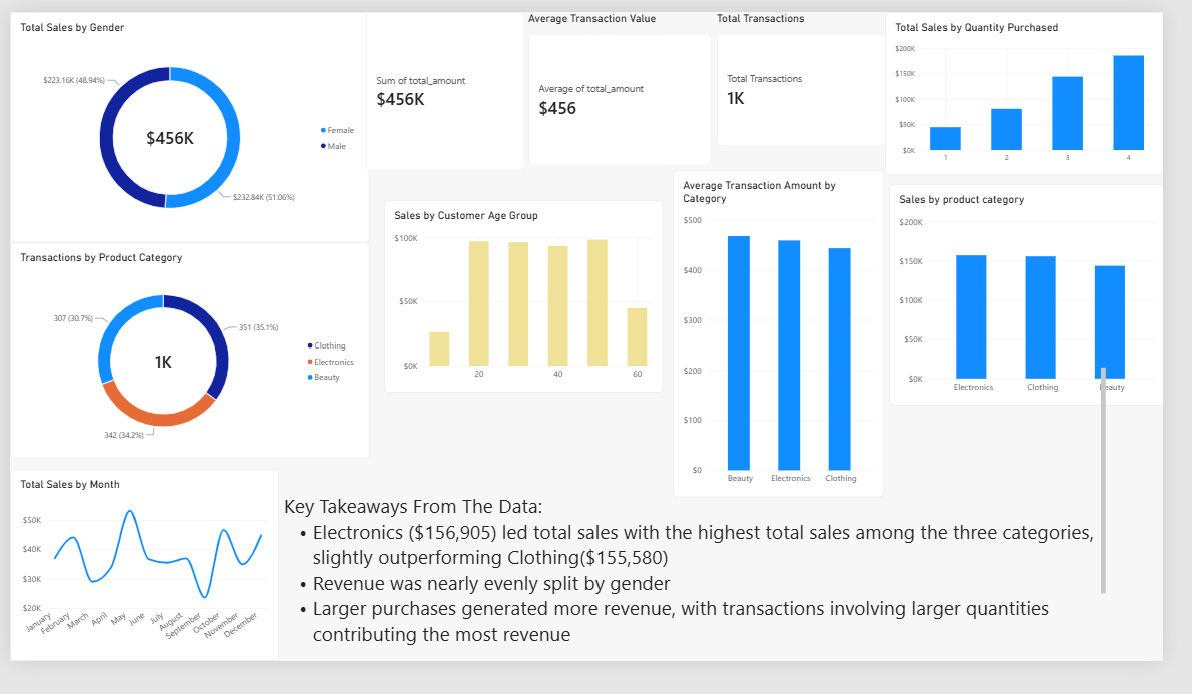

The dashboard page shown, as its layout file describes it:
{"tool":"powerbi","page":{"name":"Page 1","canvas":[1920,1080],"ordinal":0},"visuals":[{"type":"cardVisual","title":"Total Transactions","fields":{"Data":["CountNonNull(retail_sales_cleaned.transaction_id)"]},"box":[1176,0,288,224],"z":1000},{"type":"clusteredColumnChart","title":"Sales by product category","fields":{"Category":["retail_sales_cleaned.product_category"],"Y":["Sum(retail_sales_cleaned.total_amount)"]},"box":[1464,288,464,368],"z":2000},{"type":"donutChart","title":"Total Sales by Gender","fields":{"Category":["retail_sales_cleaned.gender"],"Y":["Sum(retail_sales_cleaned.total_amount)"]},"box":[0,0,600,384],"z":4000},{"type":"clusteredColumnChart","title":"Sales by Customer Age Group","fields":{"Category":["retail_sales_cleaned.age (bins)"],"Y":["Sum(retail_sales_cleaned.total_amount)"]},"box":[624,312,464,320],"z":5000},{"type":"cardVisual","title":"Average Transaction Value","fields":{"Data":["Avg(retail_sales_cleaned.total_amount)"]},"box":[864,0,304,256],"z":6000},{"type":"lineChart","title":"Total Sales by Month","fields":{"Category":["retail_sales_cleaned.date.Variation.Date Hierarchy.Month"],"Y":["Sum(retail_sales_cleaned.total_amount)"]},"box":[0,760,448,320],"z":8000},{"type":"donutChart","title":"Transactions by Product Category","fields":{"Category":["retail_sales_cleaned.product_category"],"Y":["CountNonNull(retail_sales_cleaned.transaction_id)"]},"box":[0,384,600,360],"z":9000},{"type":"clusteredColumnChart","title":"Average Transaction Amount by Category","fields":{"Category":["retail_sales_cleaned.product_category"],"Y":["Avg(retail_sales_cleaned.total_amount)"]},"box":[1104,264,352,544],"z":10000},{"type":"clusteredColumnChart","title":"Total Sales by Quantity Purchased","fields":{"Category":["retail_sales_cleaned.quantity"],"Y":["Sum(retail_sales_cleaned.total_amount)"]},"box":[1456,0,464,272],"z":11000},{"type":"cardVisual","fields":{"Data":["Sum(retail_sales_cleaned.total_amount)"]},"box":[592,0,264,264],"z":11001},{"type":"textbox","box":[456,504,1368,552],"z":11002}]}

Visuals, with their boxes on the page's 1920x1080 design canvas (x1, y1, x2, y2). These are canvas units, not pixel positions in the 1192x694 screenshot, which may show the page scaled, cropped or inside an application window:
"Total Transactions" cardVisual: 1176/0/1464/224
"Sales by product category" clusteredColumnChart: 1464/288/1928/656
"Total Sales by Gender" donutChart: 0/0/600/384
"Sales by Customer Age Group" clusteredColumnChart: 624/312/1088/632
"Average Transaction Value" cardVisual: 864/0/1168/256
"Total Sales by Month" lineChart: 0/760/448/1080
"Transactions by Product Category" donutChart: 0/384/600/744
"Average Transaction Amount by Category" clusteredColumnChart: 1104/264/1456/808
"Total Sales by Quantity Purchased" clusteredColumnChart: 1456/0/1920/272
cardVisual - Sum(retail_sales_cleaned.total_amount): 592/0/856/264
textbox: 456/504/1824/1056
